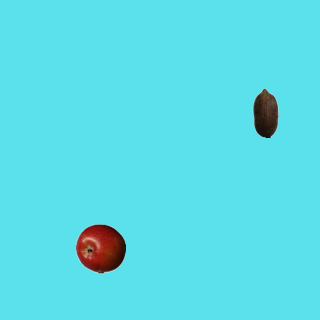Apple Braeburn: (75, 223, 125, 273)
Nut Pecan: (240, 87, 290, 137)
